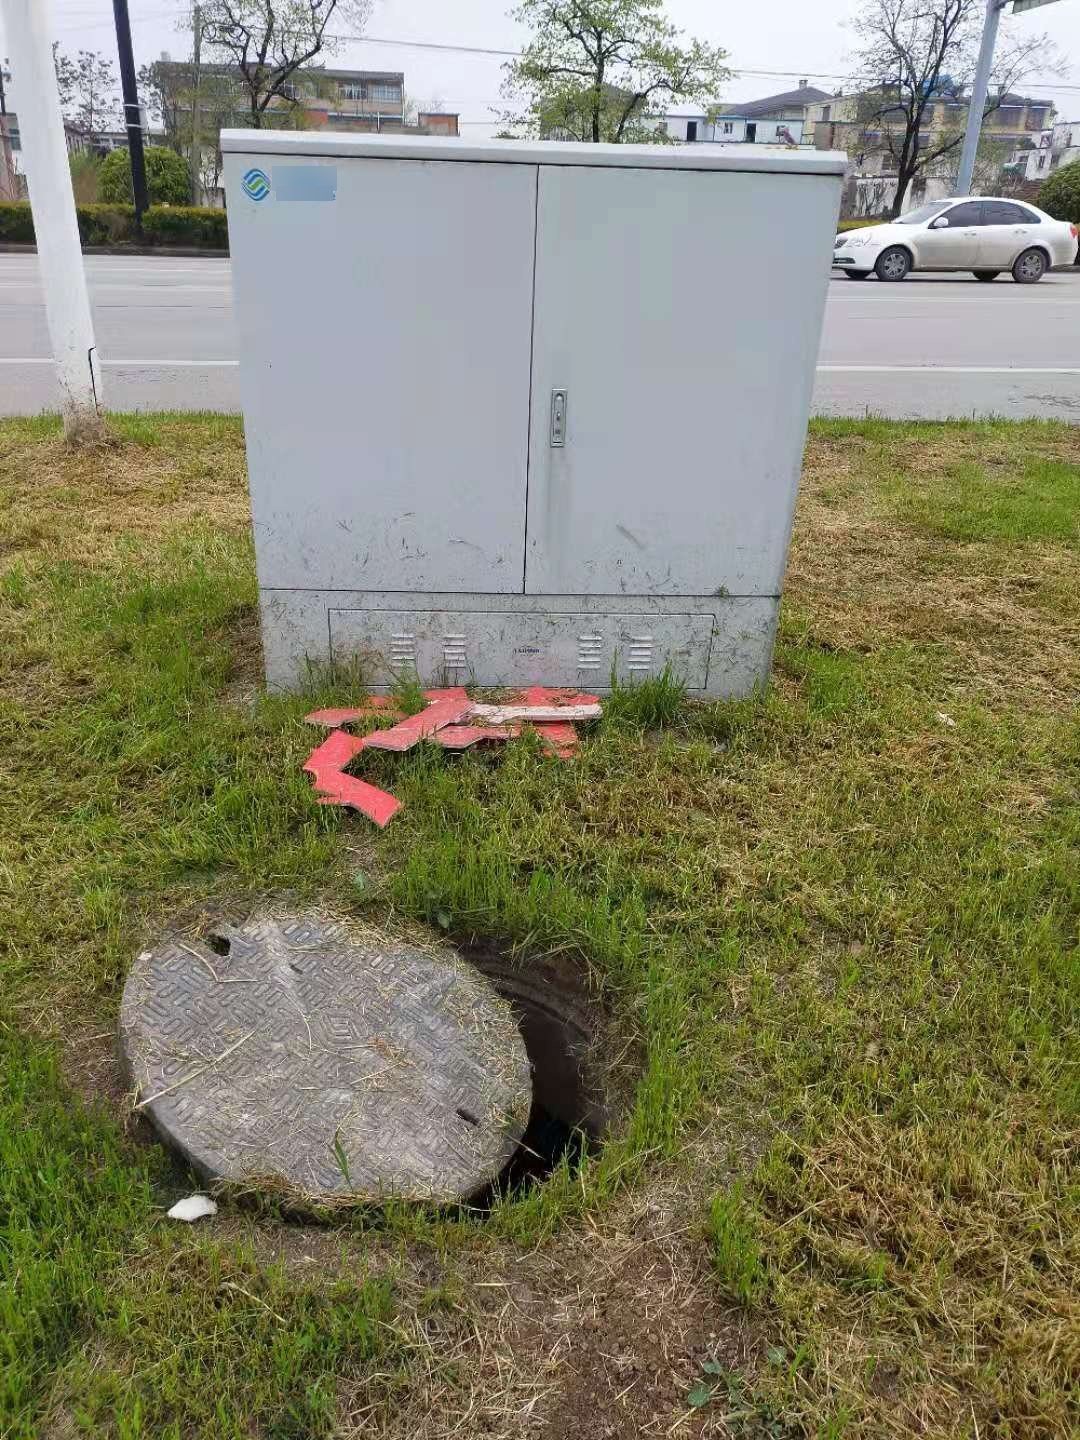uncovered: (113, 903, 638, 1211)
